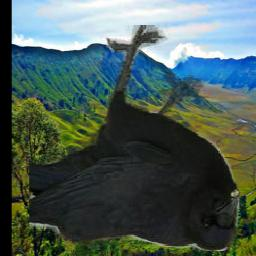Crow: (29, 25, 239, 251)
